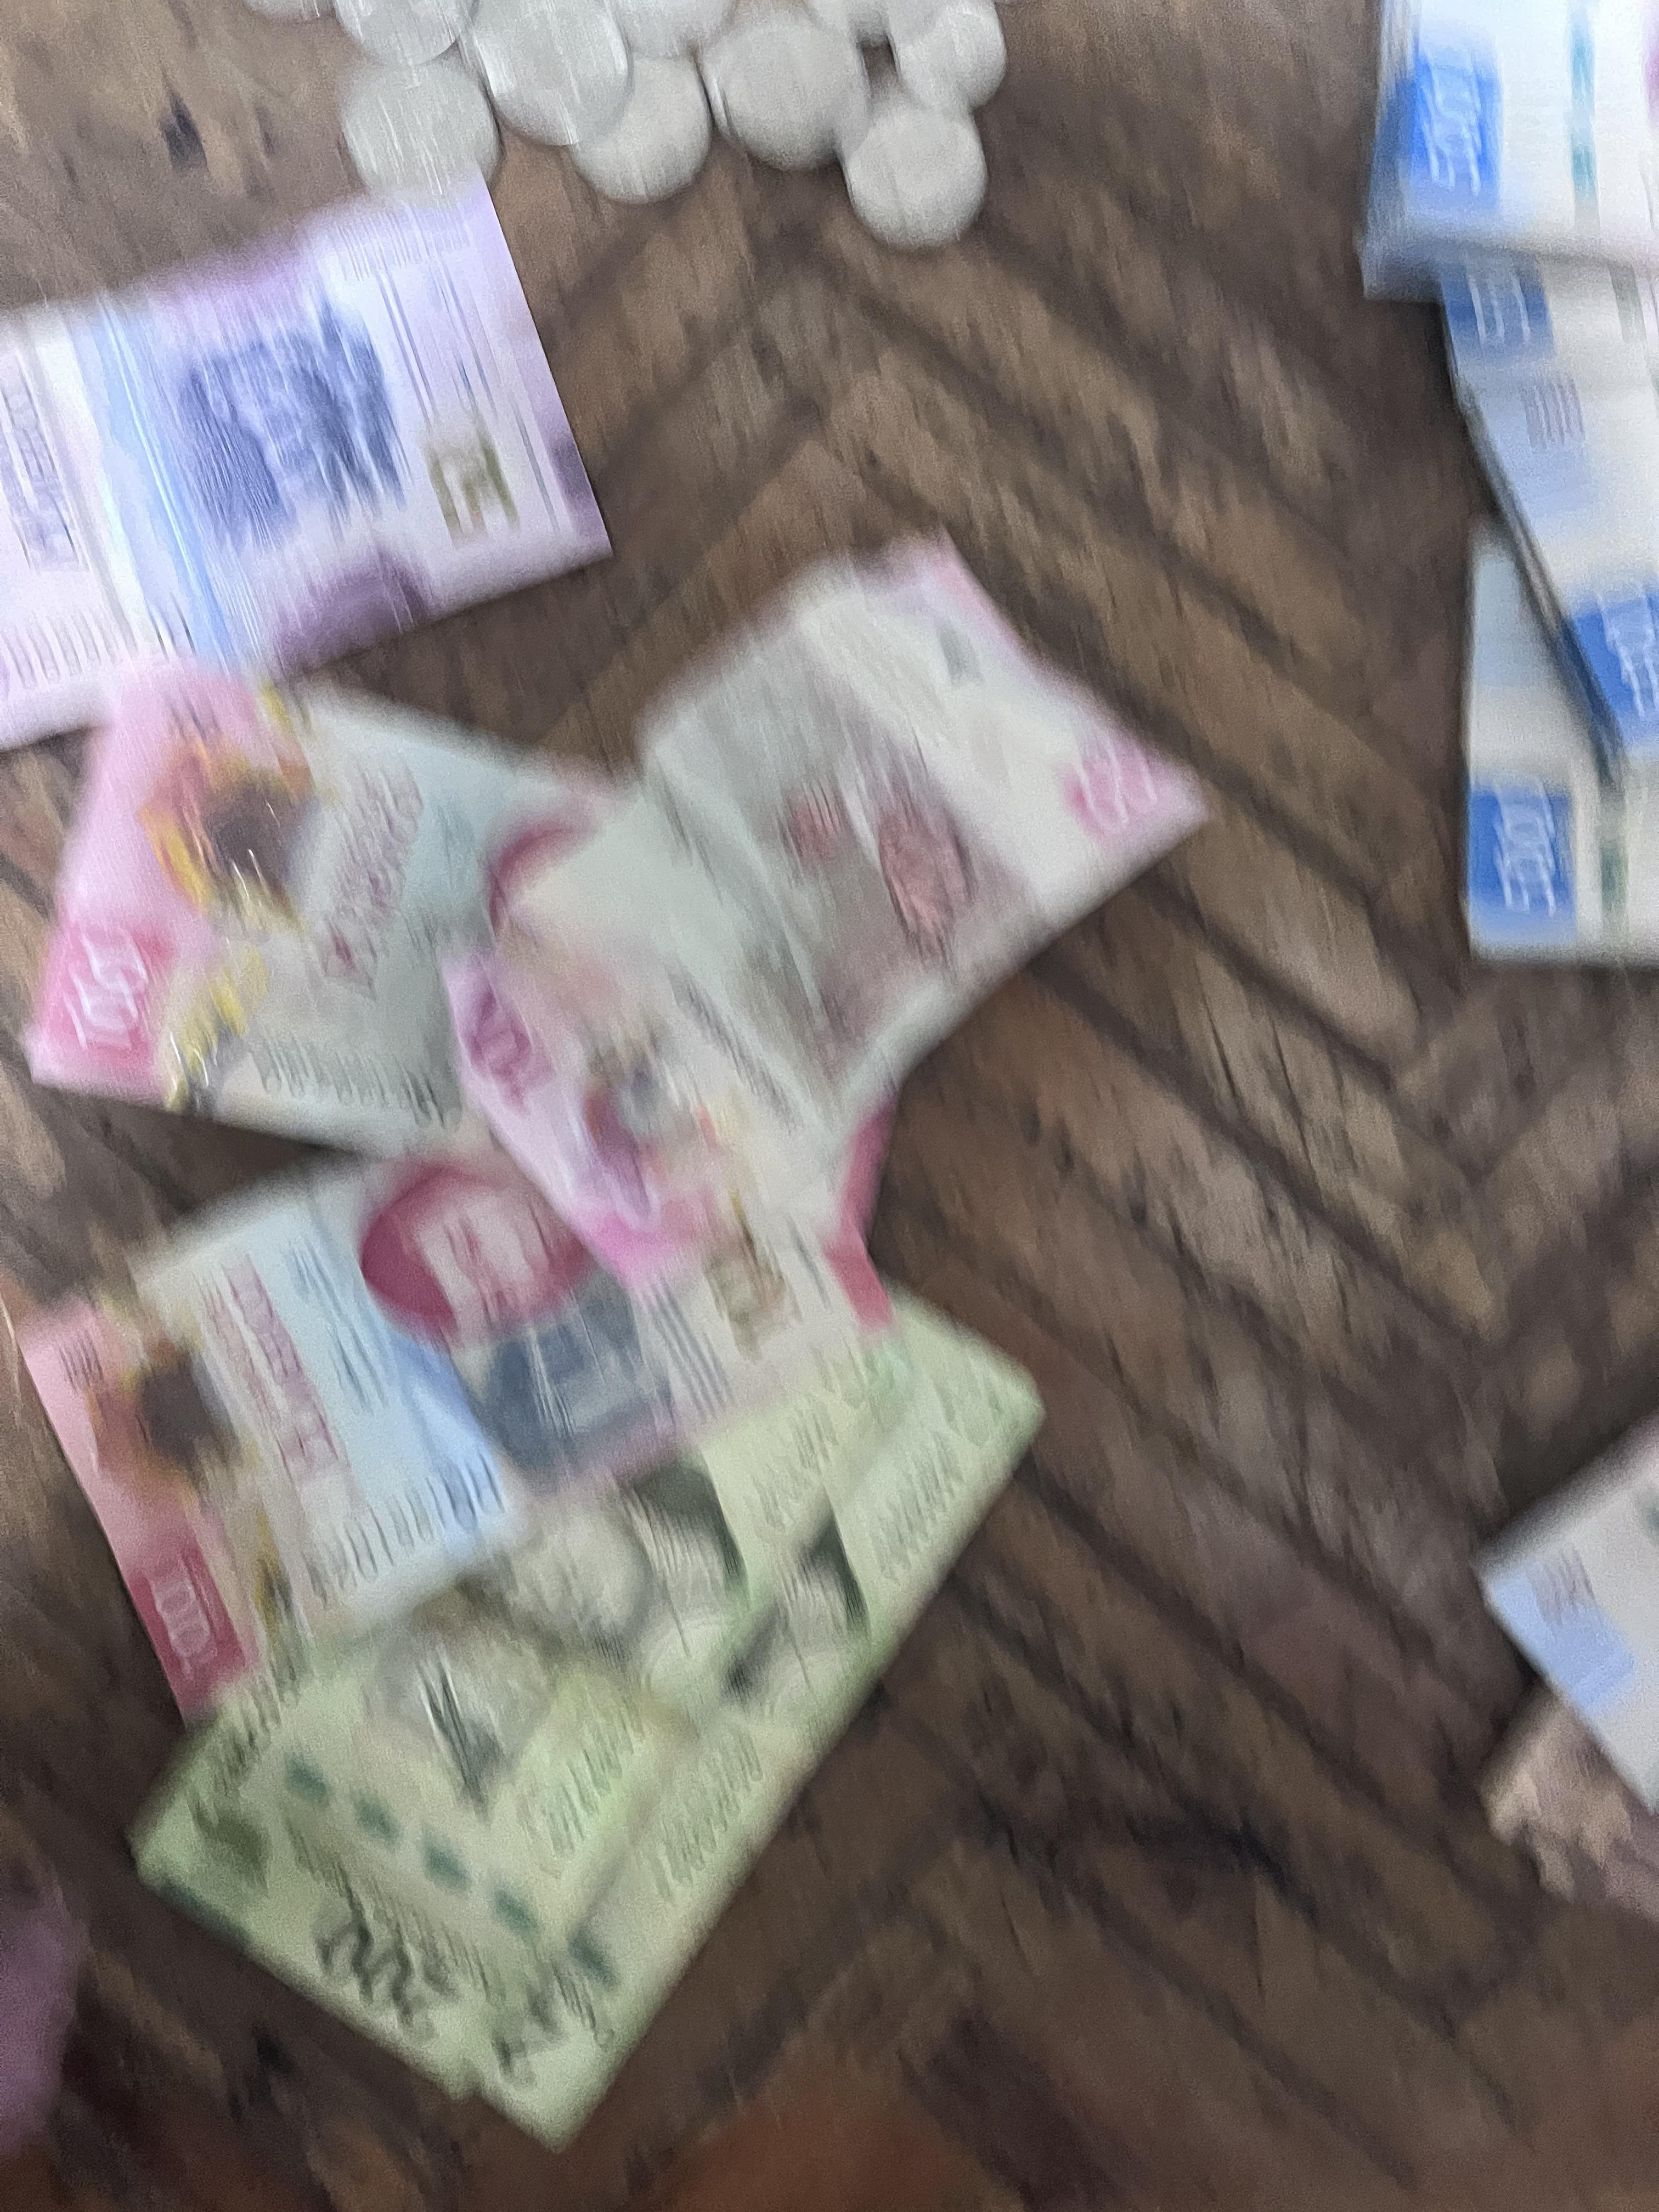100: (441, 545, 1216, 1303), (52, 1165, 744, 1723), (33, 669, 598, 1163)
200: (131, 1303, 1042, 2156)
500 nuevo: (1375, 0, 1659, 958), (1448, 1345, 1659, 1954)
